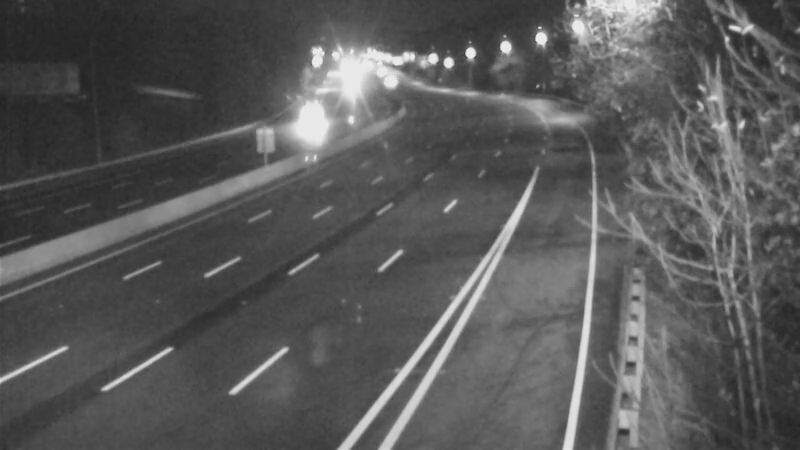vehicle: (366, 58, 416, 108), (284, 82, 334, 132)
